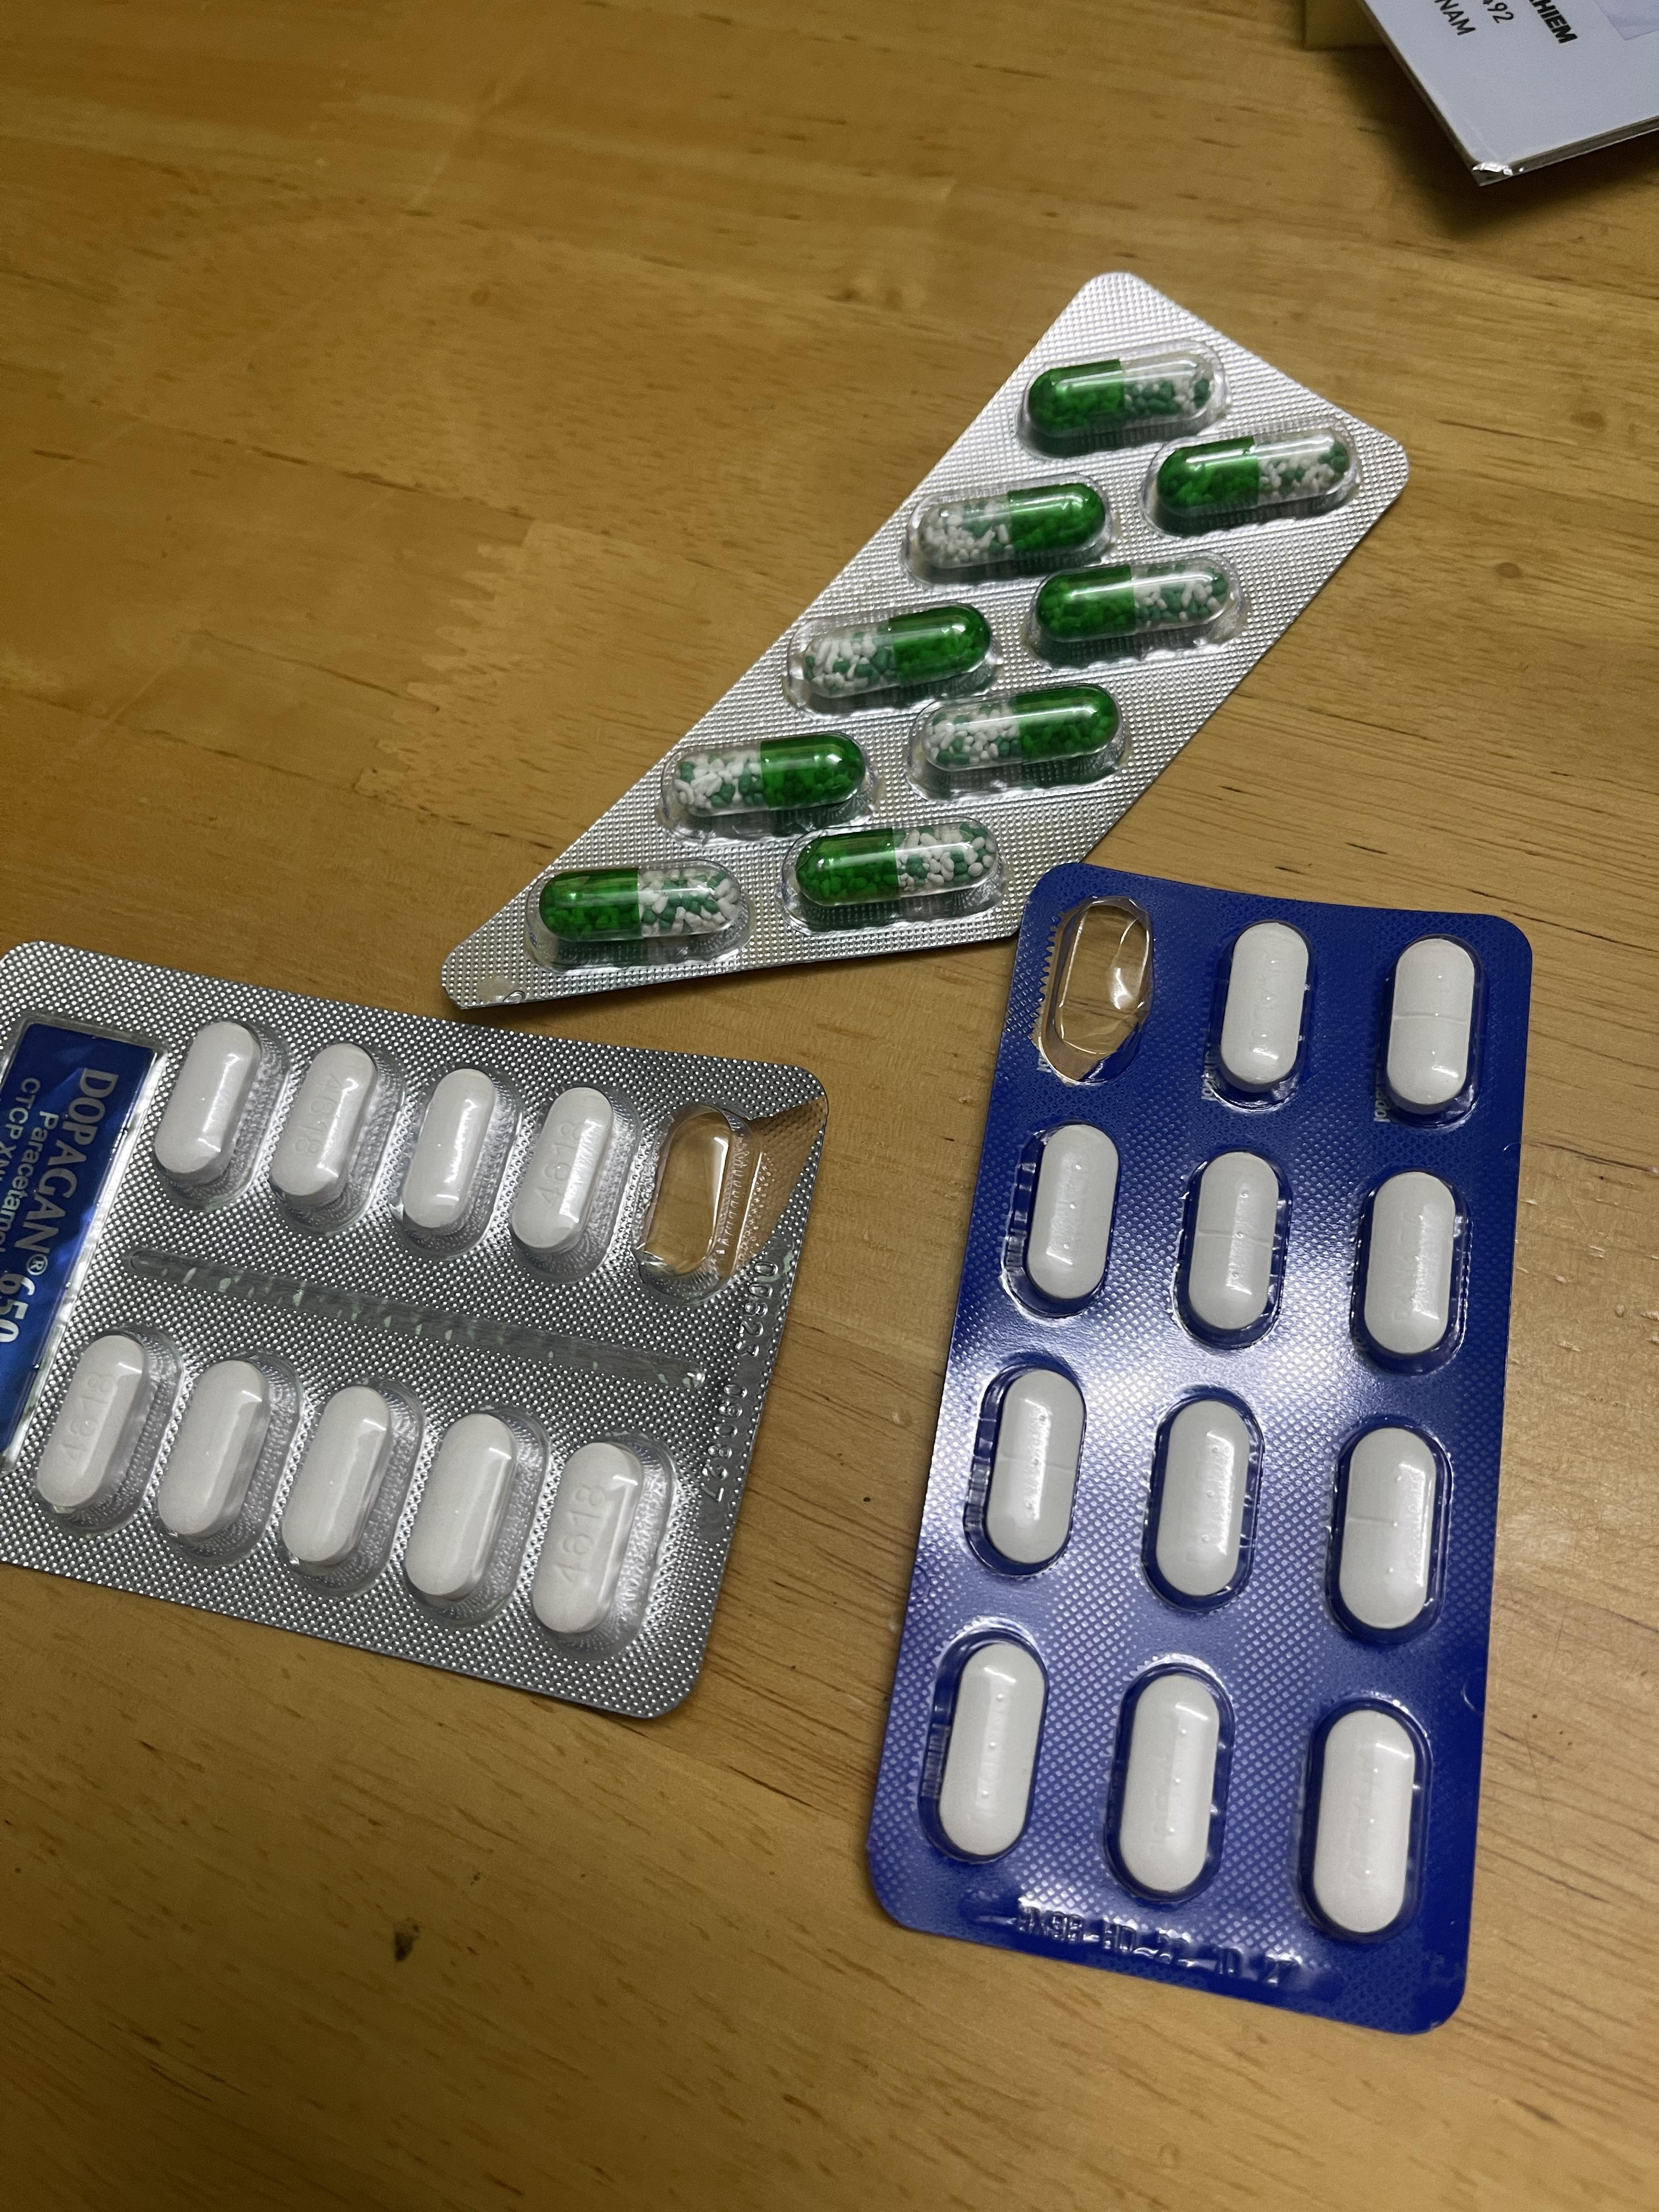Paracetamol_350mg: (1298, 1696, 1434, 1949), (918, 1625, 1051, 1872), (1326, 1416, 1455, 1649), (1114, 1670, 1225, 1900), (1152, 1400, 1255, 1611), (1359, 1170, 1464, 1369), (1182, 1151, 1288, 1346), (985, 1362, 1084, 1568), (1023, 1123, 1122, 1310), (1384, 937, 1483, 1123), (1216, 923, 1312, 1096)
Paracetamol_500mg: (525, 1437, 673, 1655), (399, 1409, 537, 1623), (272, 1379, 406, 1592), (148, 1355, 282, 1562), (260, 1036, 390, 1224), (504, 1083, 629, 1268), (387, 1064, 511, 1251), (33, 1332, 157, 1519), (153, 1021, 267, 1188)
Paracetamol_650mg: (800, 826, 992, 911), (540, 867, 741, 948), (803, 610, 985, 697), (932, 691, 1115, 775), (1161, 437, 1347, 517), (1028, 359, 1209, 441), (920, 484, 1101, 566), (678, 737, 861, 815), (1039, 570, 1225, 643)
